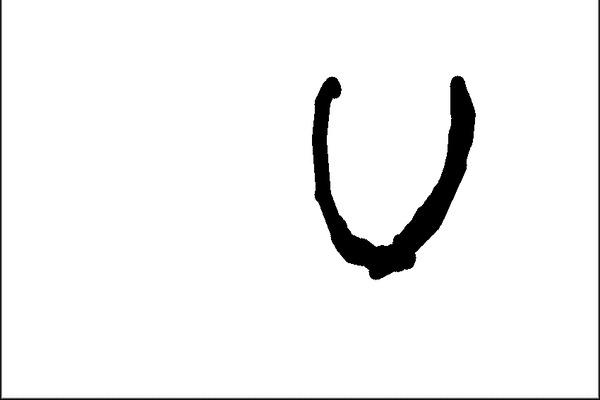U: (303, 64, 479, 286)
